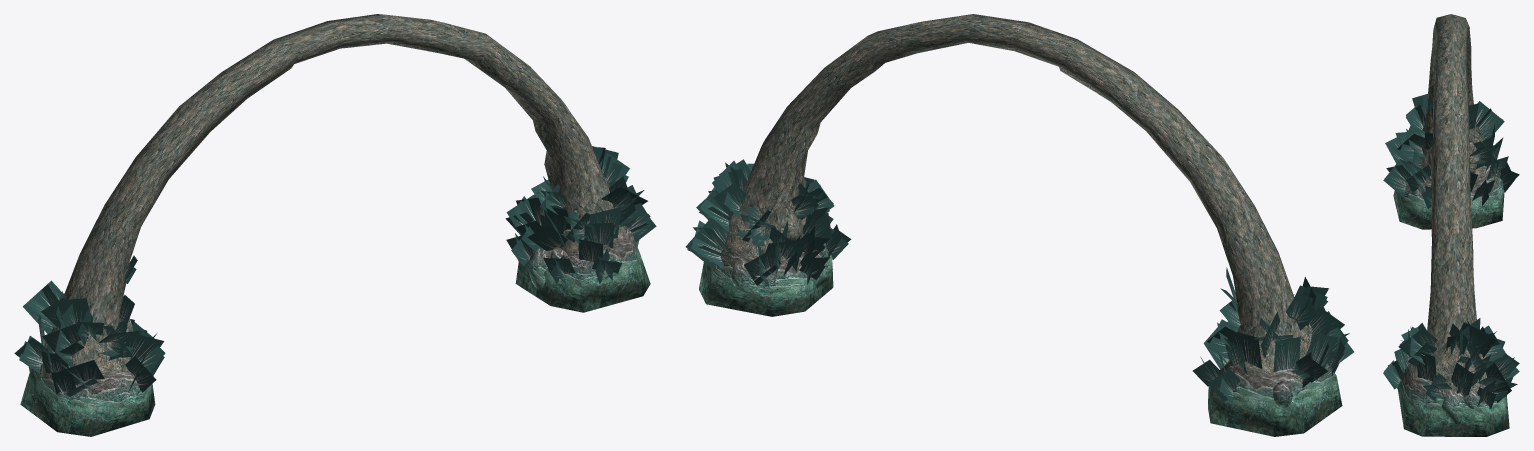
The model's file is rock_crystl_arch_med_l1.fbx.
3 renders of one model, left to right at view 1: azimuth 30°, elevation 25°; view 2: azimuth 150°, elevation 25°; view 3: azimuth 270°, elevation 25°, orthographic. The views are drawn at different scales.
Parts seen in each view (by area): view 1: mesh_node; view 2: mesh_node; view 3: mesh_node.
Part boxes in pixels (bbox=[...]): mesh_node: bbox=[14, 14, 656, 436]; mesh_node: bbox=[685, 14, 1353, 436]; mesh_node: bbox=[1383, 14, 1519, 436].
Size of the model in its own units: 94.03 by 46.34 by 20.95.
